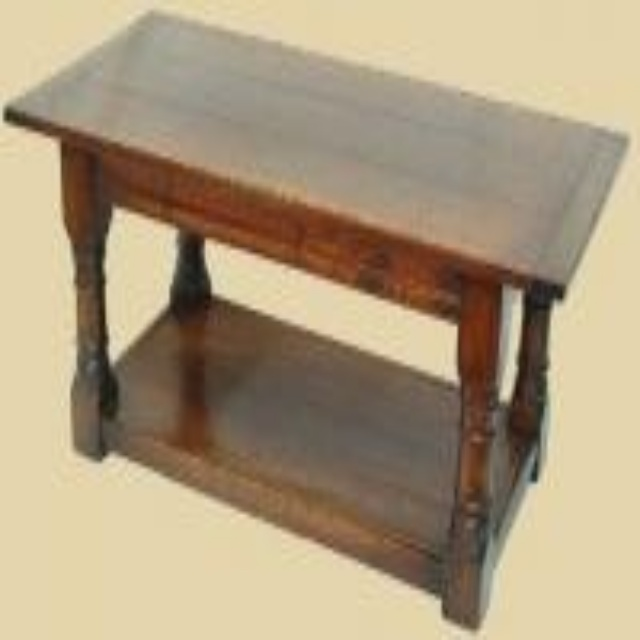obstacle: (0, 0, 637, 630)
